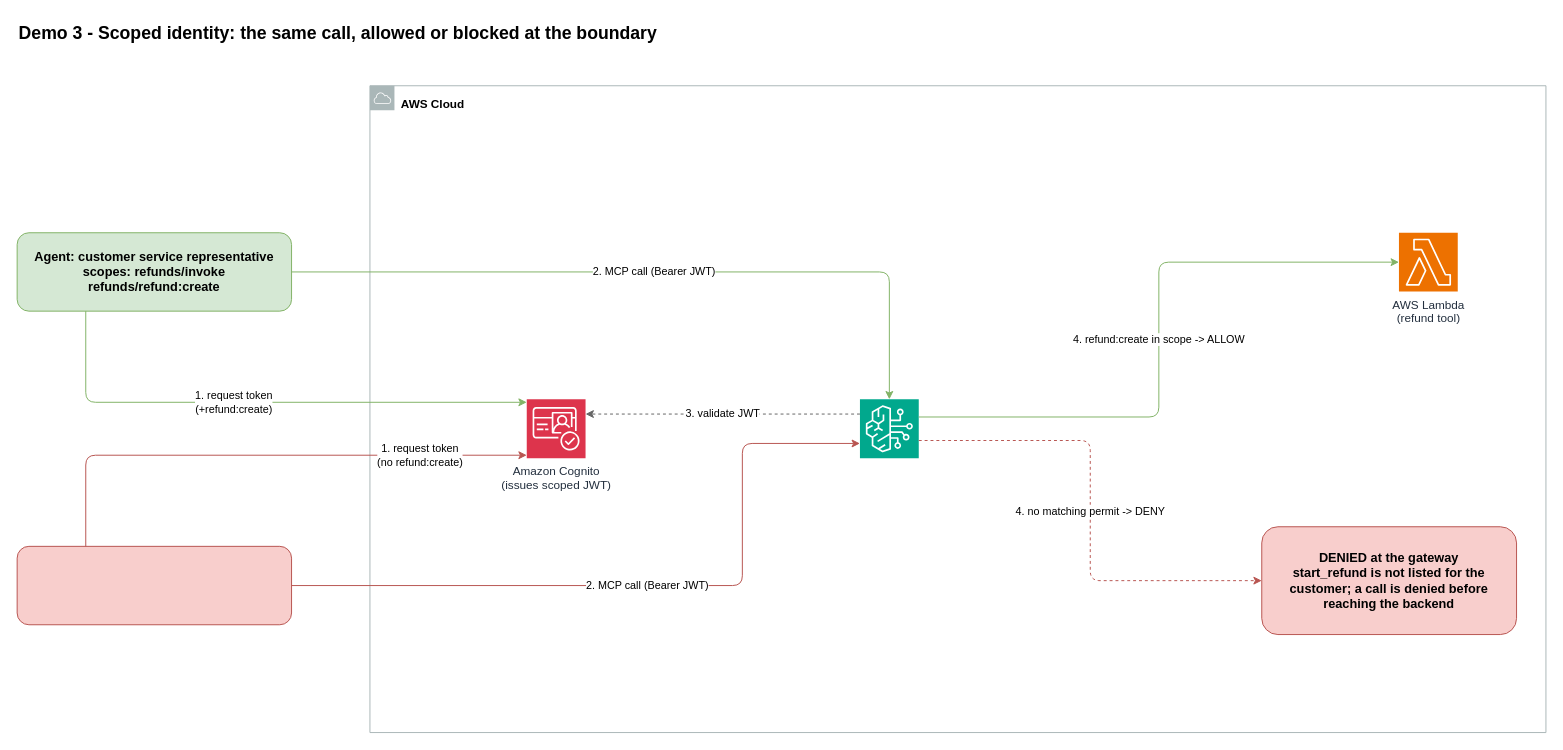
Image size: 1563x750. Some labels were removed from this diagram. The shapes that lost their labels are listed below. From the top down, each one's centre as x and y in pixels, then its label:
At [889,428]: "AgentCore Gateway + Cedar policy engine (ENFORCE)".
At [154,585]: "Agent: customer scope: refunds/invoke (no refunds/refund:create)".
